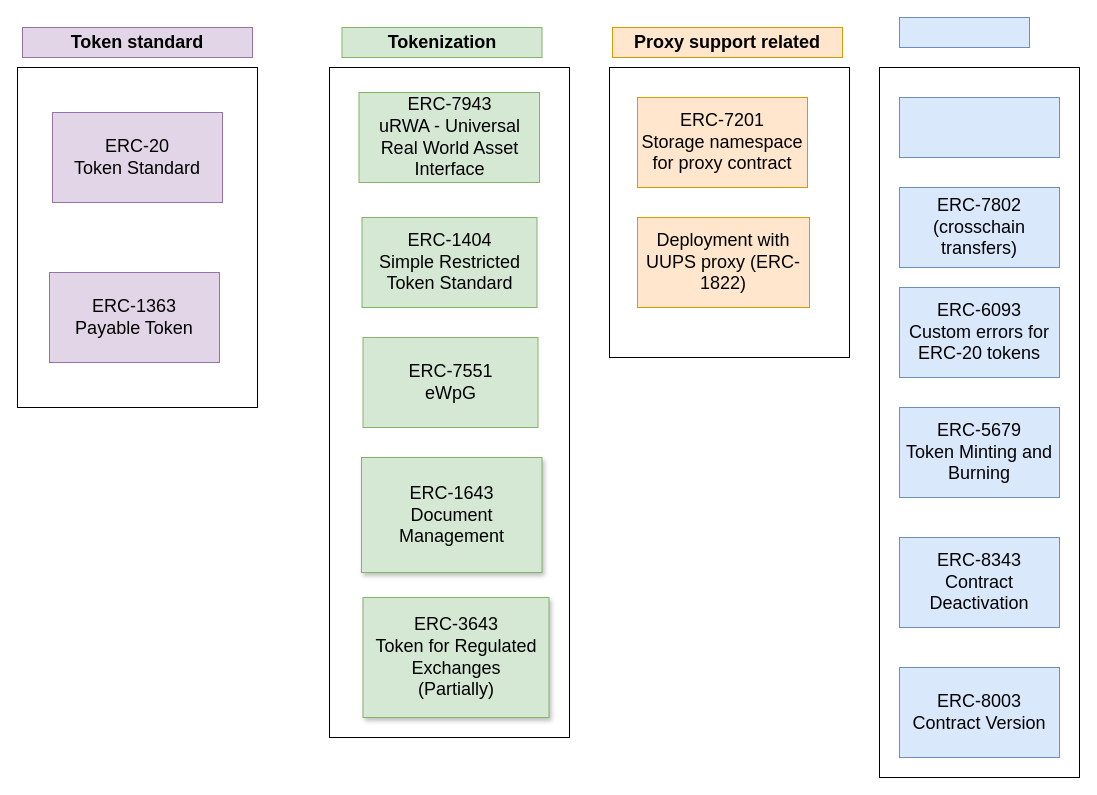
Some shapes in this 1097 by 795 pixel diagram are drawn without their labels. The shapes that lost their labels are listed below. From the top down, each one's centre as x and y in pixels, then its label:
the point at 964,32: Technical
the point at 979,127: ERC-2771 (Meta Tx / gasless)
